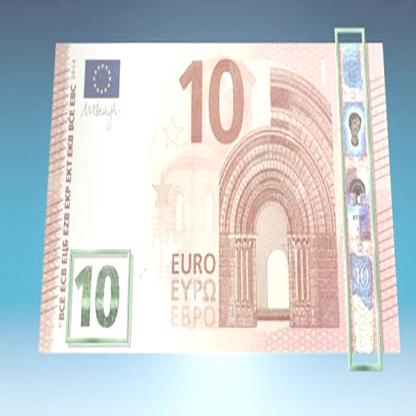euro_banknote: (40, 44, 401, 355)
